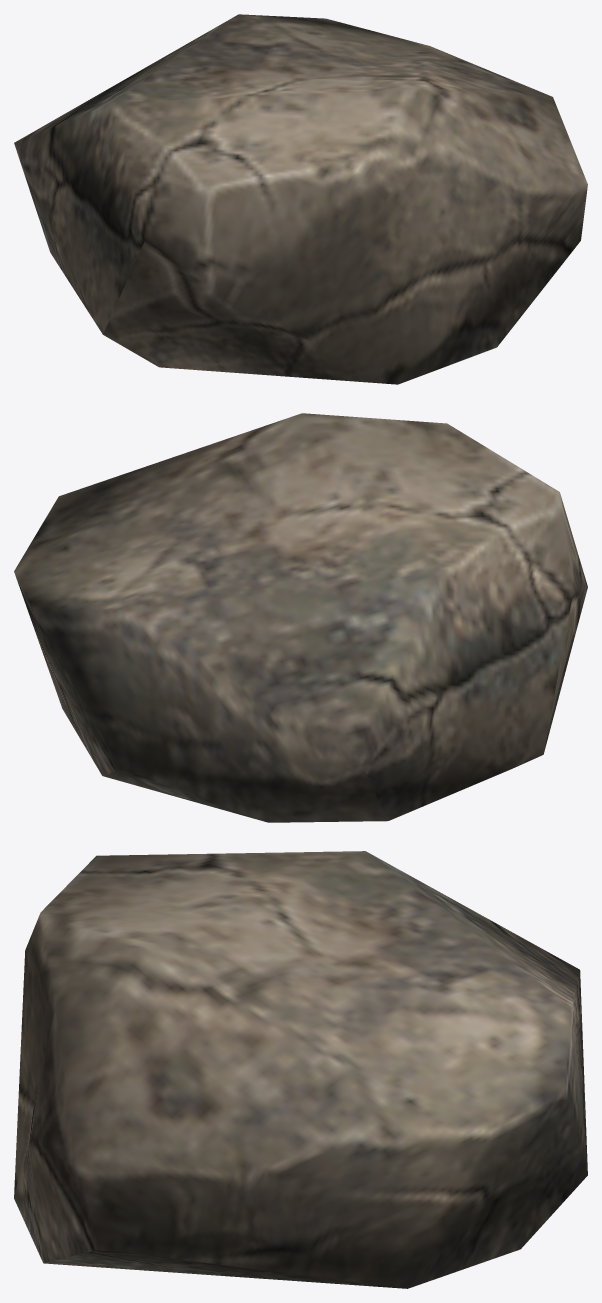
The model's file is Rock1B.FBX.
3 views of the same model, one above another, from view 1: azimuth 30°, elevation 25°; view 2: azimuth 150°, elevation 25°; view 3: azimuth 270°, elevation 25° (orthographic). The views are drawn at different scales.
Parts seen in each view (by area): view 1: Rock1B; view 2: Rock1B; view 3: Rock1B.
Part boxes in pixels (bbox=[...]): Rock1B: bbox=[14, 14, 587, 384]; Rock1B: bbox=[14, 413, 587, 822]; Rock1B: bbox=[14, 851, 587, 1288].
Bounding box in the file's own units: 2.58 × 1.36 × 2.32.
